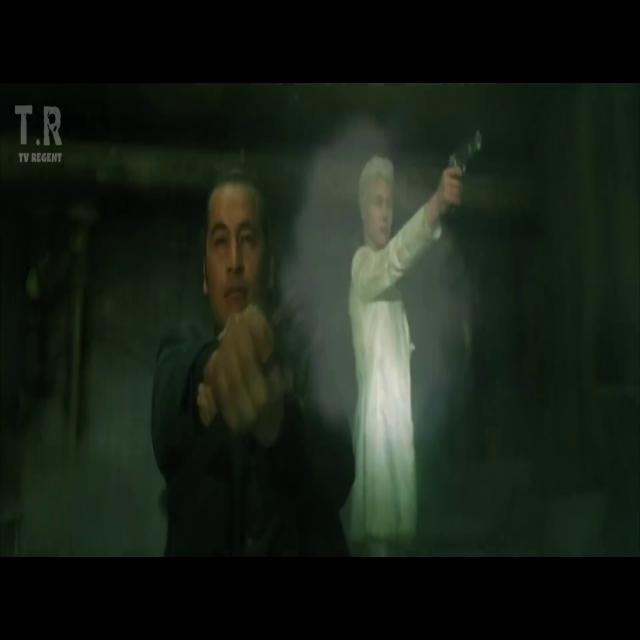handgun: (442, 119, 488, 213)
